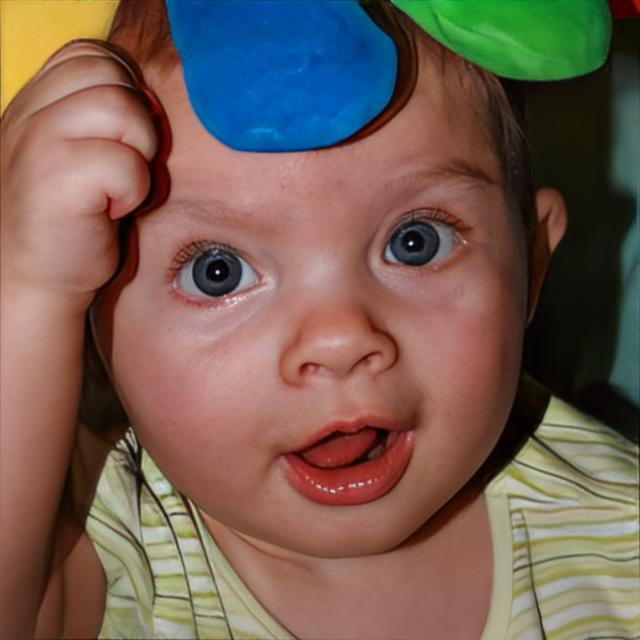surprise: (90, 44, 530, 558)
